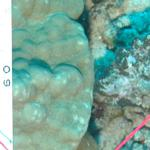alive: (18, 8, 146, 146)
